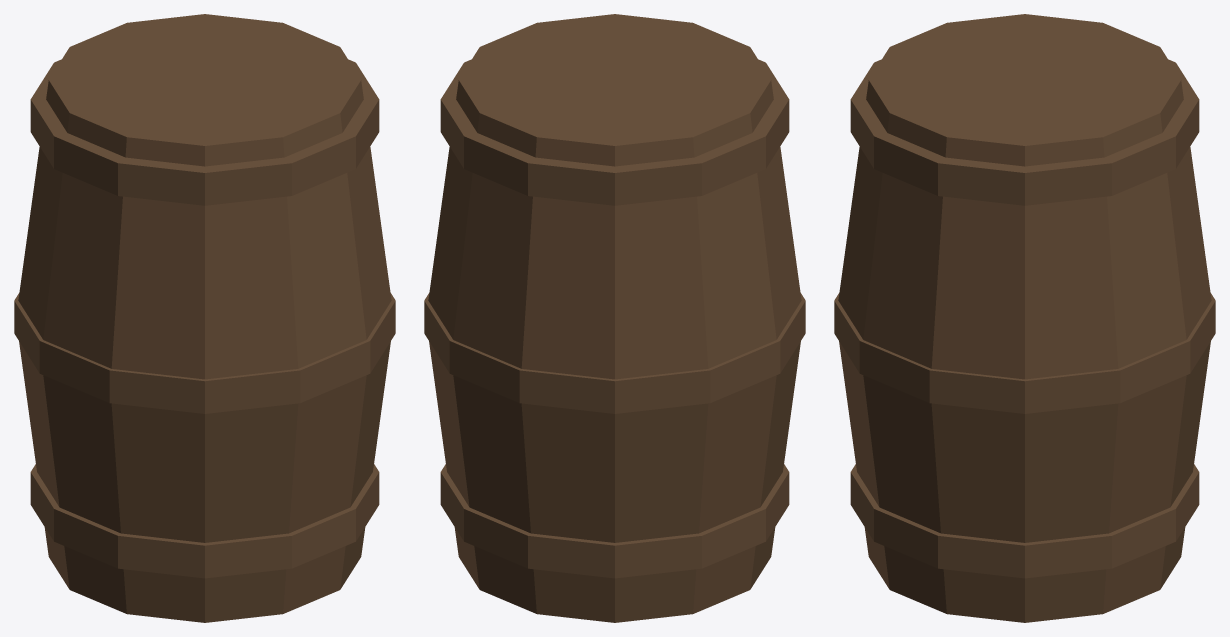
The model's file is barrel.fbx.
The picture shows the model from 3 angles, left to right: view 1: azimuth 30°, elevation 25°; view 2: azimuth 150°, elevation 25°; view 3: azimuth 270°, elevation 25°; orthographic projection.
Parts seen in each view (by area): view 1: barrel; view 2: barrel; view 3: barrel.
Boxes of the visible parts, bbox=[...] form: barrel: bbox=[14, 14, 395, 622]; barrel: bbox=[424, 14, 805, 622]; barrel: bbox=[834, 14, 1215, 622].
Size of the model in its own units: 232 by 320 by 232.
